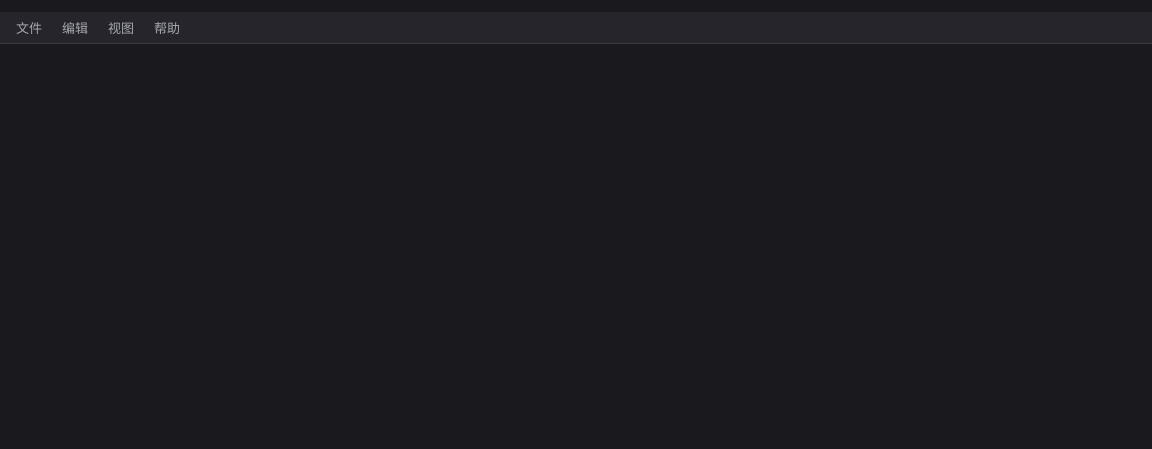
it: AppMenuBar › clicking 文件 opens its dropdown
This screenshot has width=1152, height=449.
Click the button with class "menu-dropdown__trigger" showing "文件". click: coordinates (29, 28)
box: [8, 14, 50, 40]
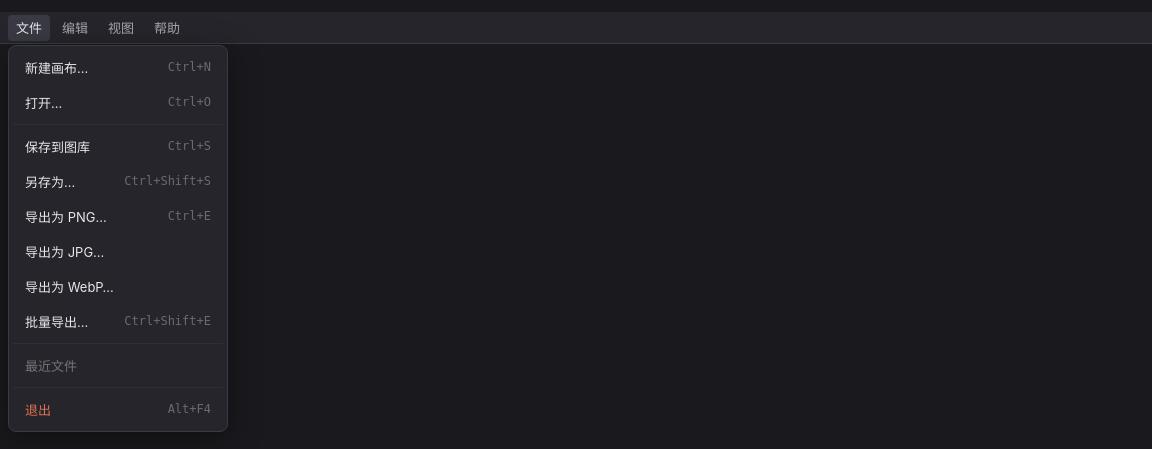
Expected: the button with class "menu-dropdown__trigger" is expanded, [8, 14, 50, 40]
Expected: the number of menus is 1, [8, 44, 228, 432]
Expected: the menu shows "新建画布", [13, 50, 223, 84]
